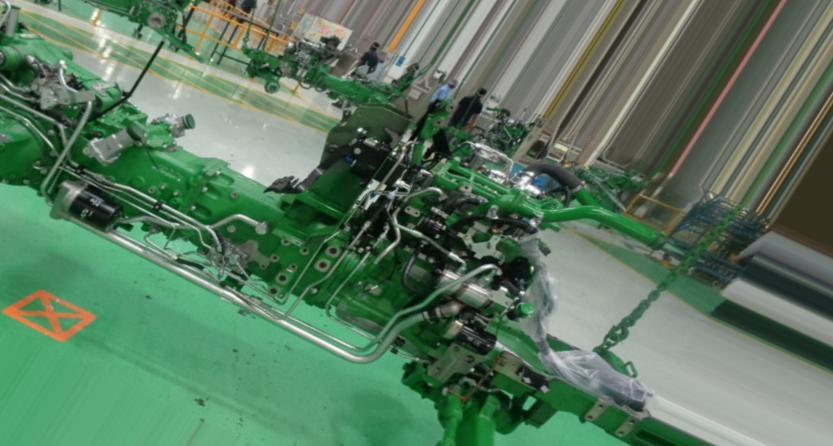engine: (0, 30, 717, 446)
